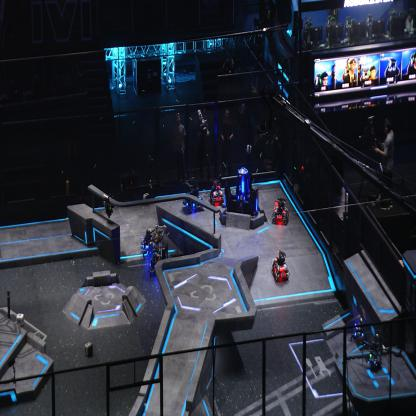car: (147, 222, 171, 275), (182, 175, 204, 213), (271, 247, 290, 282), (271, 196, 290, 226), (140, 226, 157, 257), (208, 178, 224, 206), (352, 321, 365, 342)
